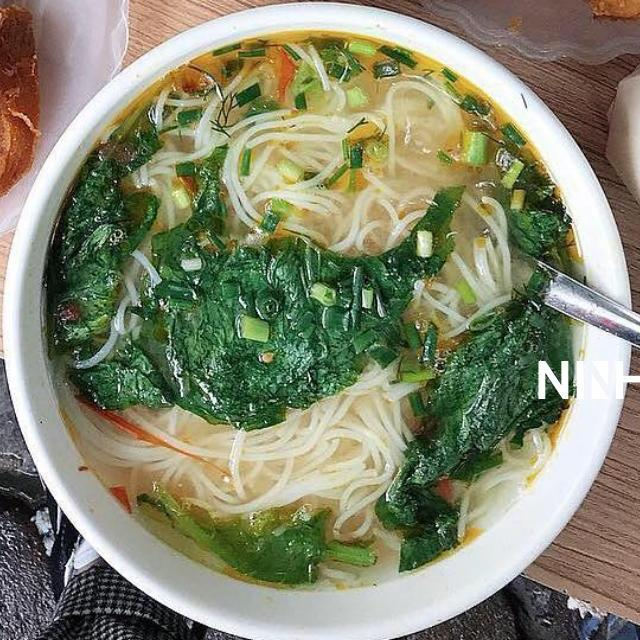bun: (181, 79, 457, 255), (70, 383, 416, 522), (399, 176, 526, 354)
